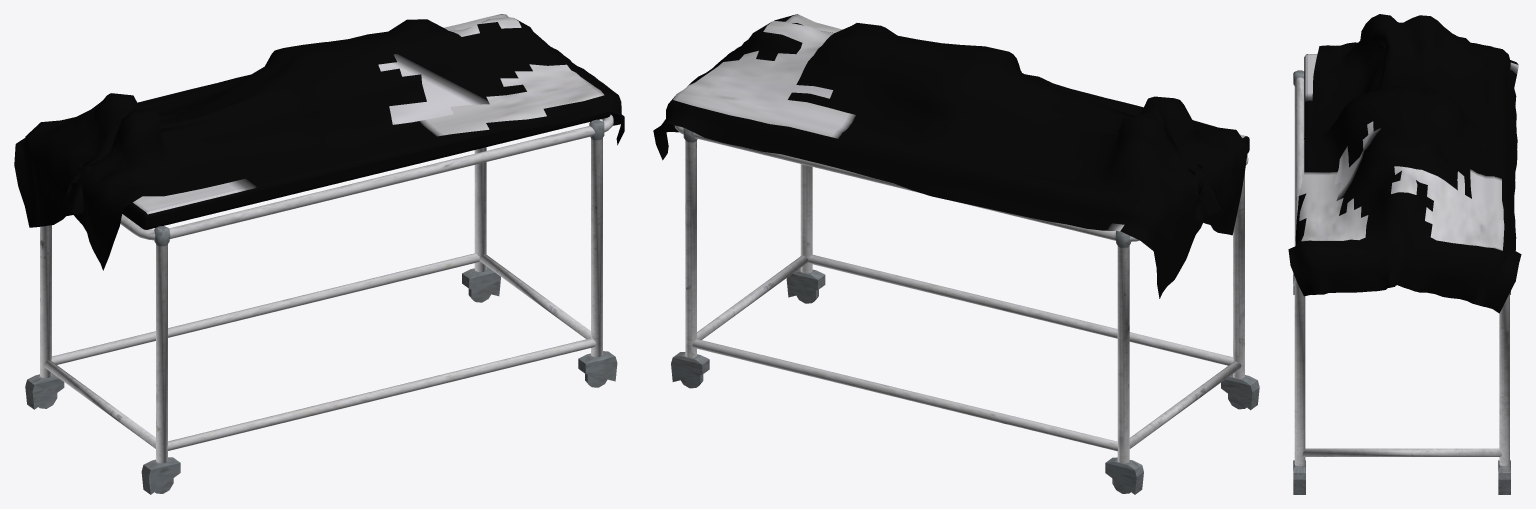
Rendered from camillas.obj.
The picture shows the model from 3 angles, left to right: view 1: azimuth 30°, elevation 25°; view 2: azimuth 150°, elevation 25°; view 3: azimuth 270°, elevation 25°; orthographic projection. The views are drawn at different scales.
Parts seen in each view (by area): view 1: Maca; view 2: Maca; view 3: Maca.
Boxes of the visible parts, left/top/right/bottom form: Maca: left=14, top=14, right=624, bottom=494; Maca: left=653, top=14, right=1259, bottom=494; Maca: left=1288, top=14, right=1521, bottom=494.
Size of the model in its own units: 2.43 by 1.55 by 1.08.
4 materials, 4 textured.
